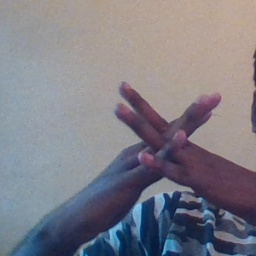W: (95, 73, 238, 220)
